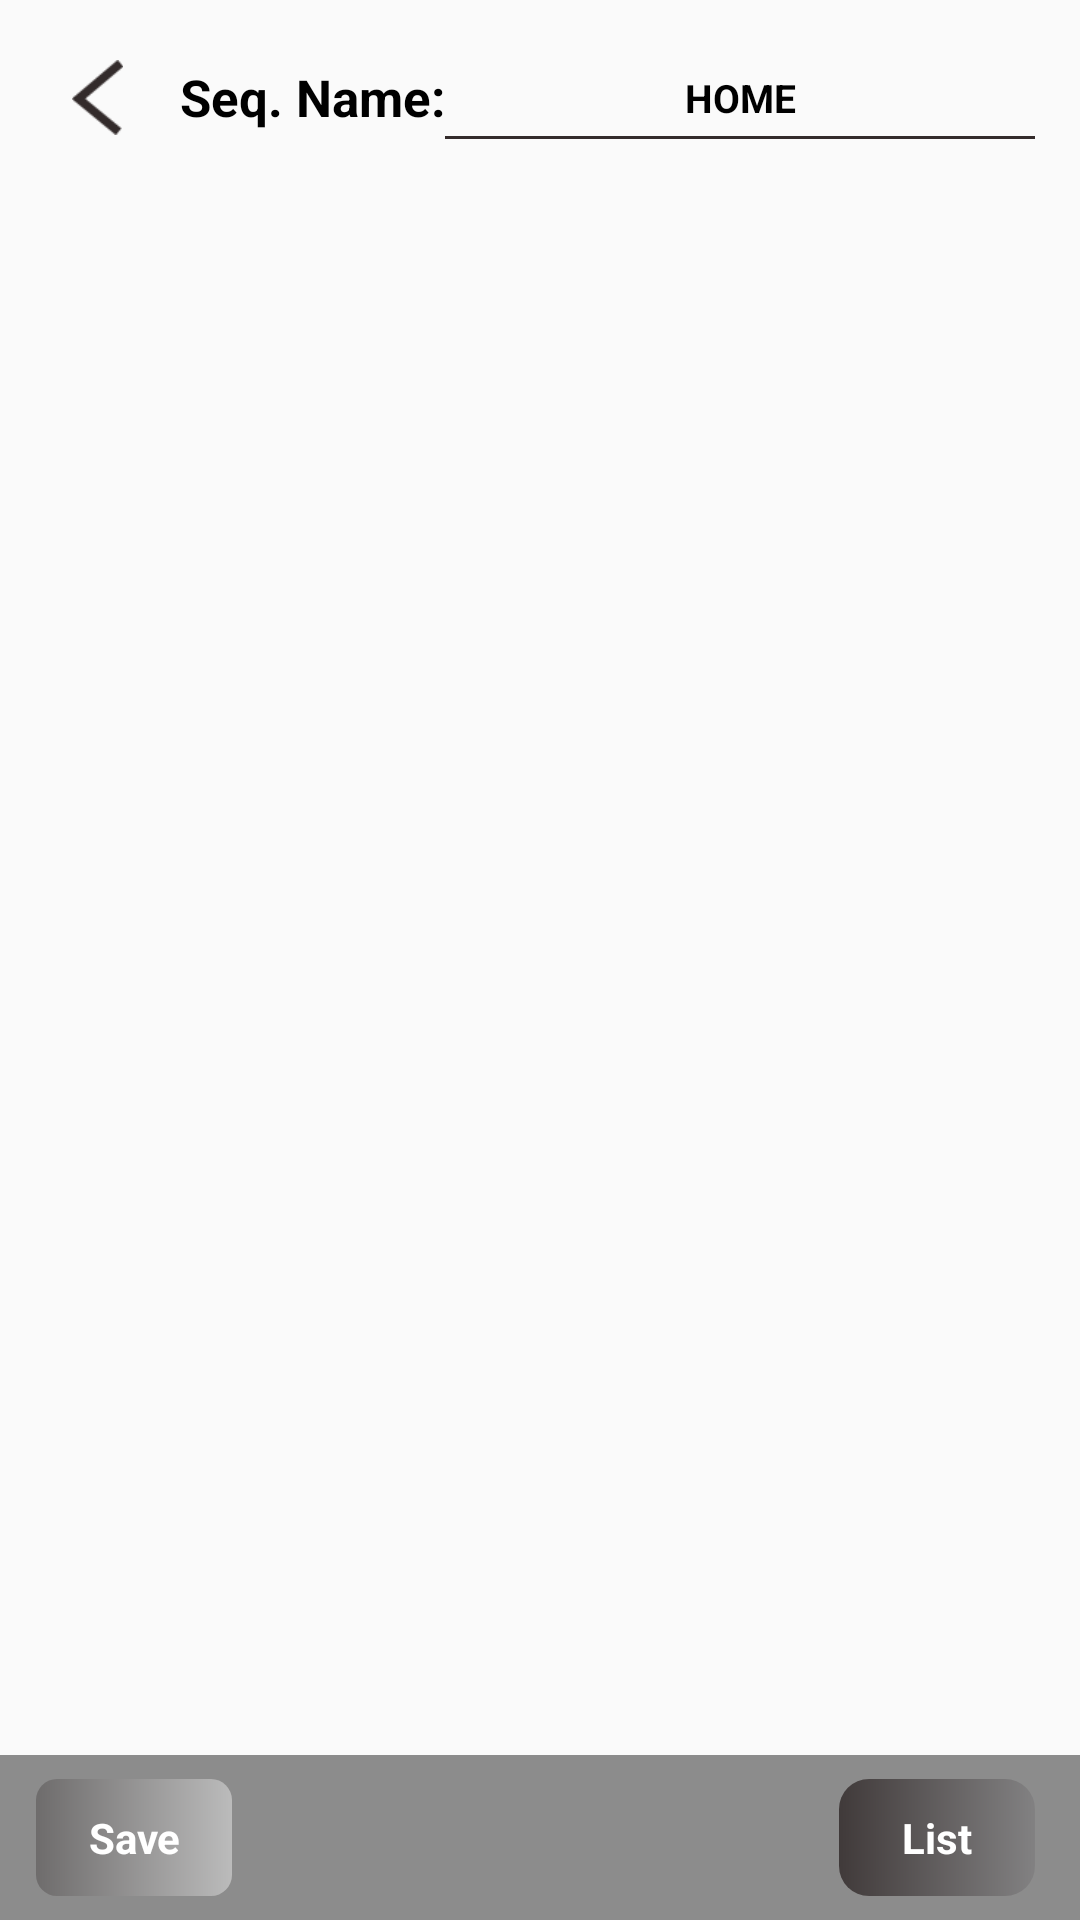

Where icons sit on this 1080px x 1920px app screen, as BBox(x1, y1, x2, y2):
back: BBox(72, 60, 123, 135)
